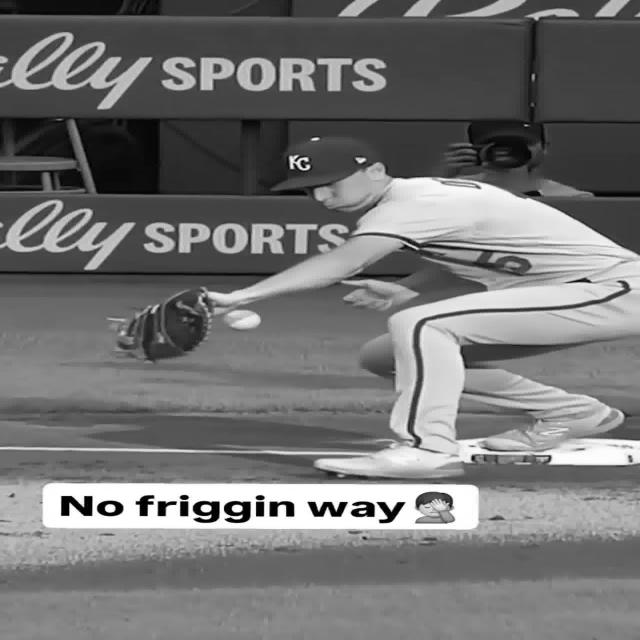base: (458, 438, 640, 466)
baseball: (222, 310, 262, 330)
baseball_glove: (107, 288, 211, 361)
shoe: (482, 406, 625, 451), (313, 442, 465, 479)
